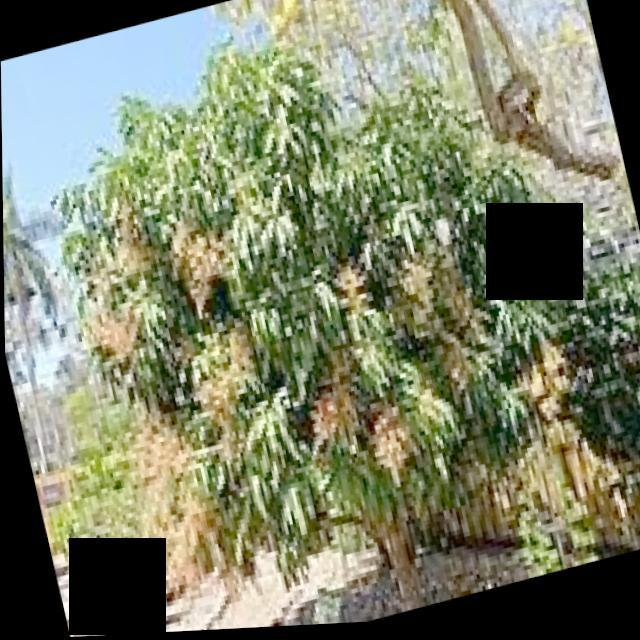Tree: (134, 34, 566, 636)
